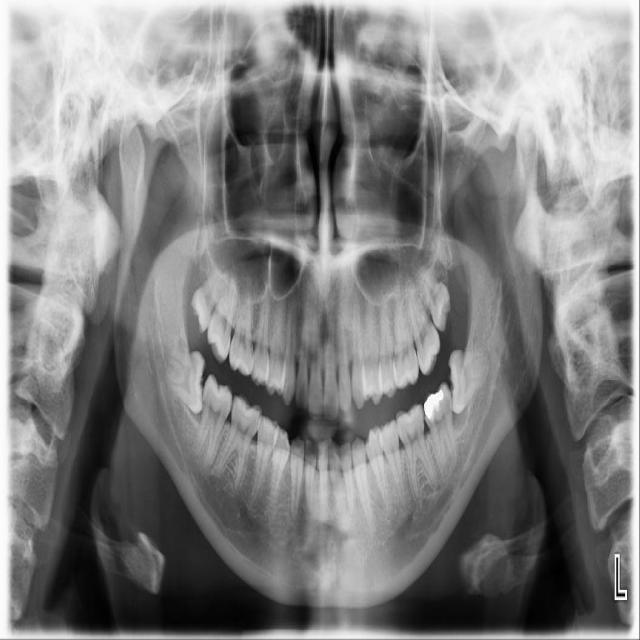Filling: (421, 389, 444, 420)
impacted tooth: (162, 345, 207, 413), (450, 347, 491, 411)
